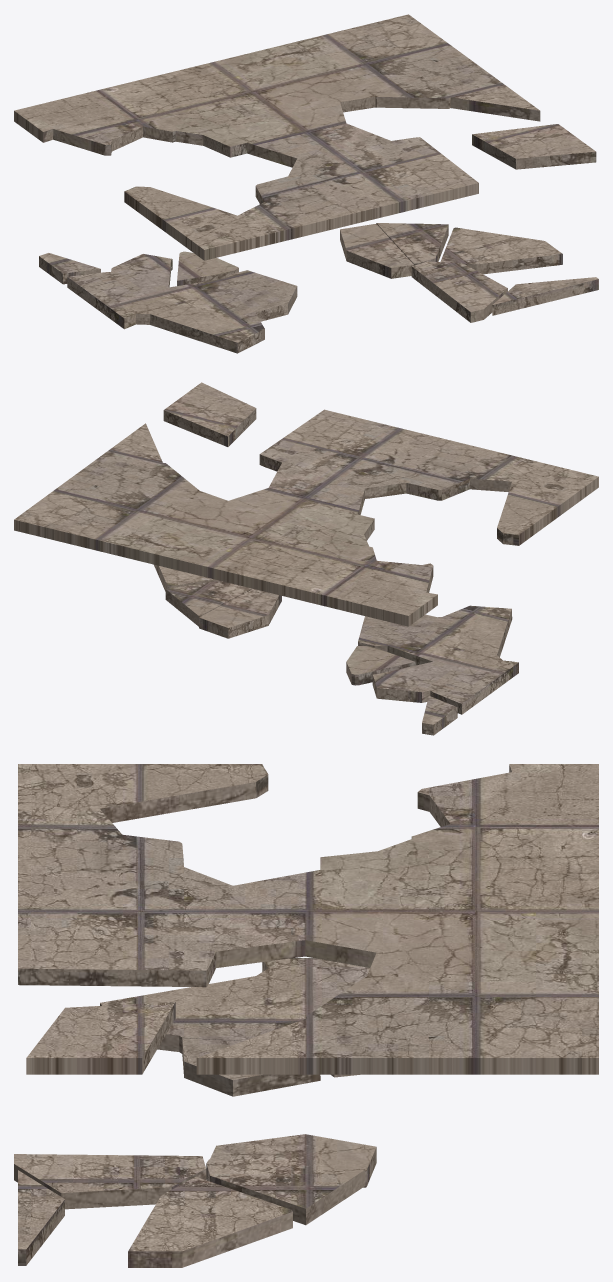
Rendered from salle1_sol.FBX.
3 views of the same model, one above another, from view 1: azimuth 30°, elevation 25°; view 2: azimuth 150°, elevation 25°; view 3: azimuth 270°, elevation 25° (orthographic). The views are drawn at different scales.
Visible parts, largest first — view 1: Rectangle001_frag_097, Object037; view 2: Rectangle001_frag_097, Object037; view 3: Rectangle001_frag_097, Object037.
Part boxes in pixels (x1,y1,x2,y2): Rectangle001_frag_097: (14,14,598,342); Object037: (39,96,598,353); Rectangle001_frag_097: (14,382,598,724); Object037: (154,408,518,735); Rectangle001_frag_097: (14,764,598,1251); Object037: (14,765,511,1267).
Size of the model in its own units: 765 by 256 by 644.
